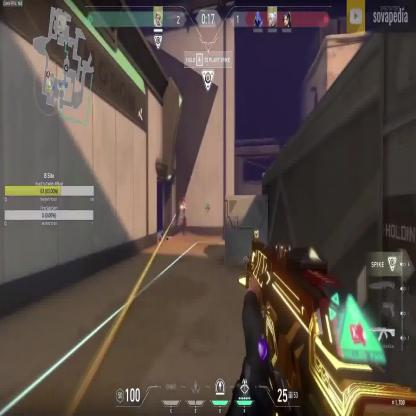enemy: (178, 197, 187, 234)
enemy_head: (182, 198, 185, 205)
